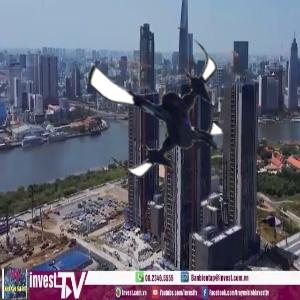drone: (82, 29, 238, 185)
